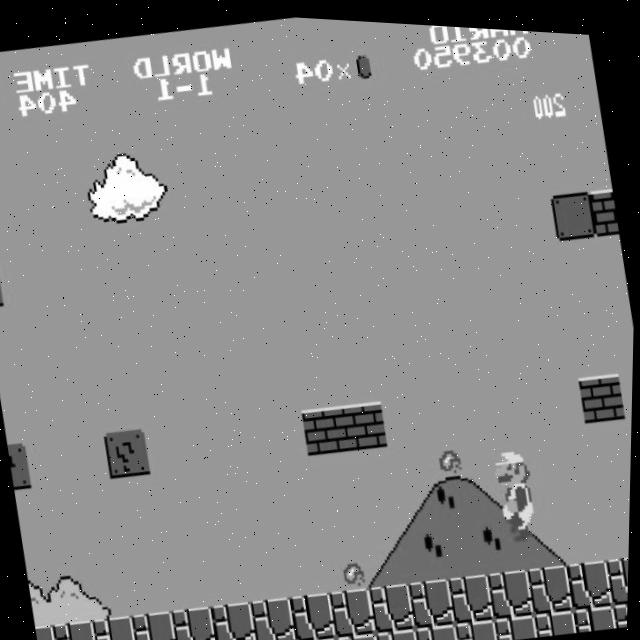1- brick_block: (578, 363, 627, 417), (302, 399, 351, 453), (342, 394, 390, 448), (591, 180, 620, 229)
13- mystery_block: (104, 425, 153, 479), (8, 440, 35, 489), (0, 259, 5, 307)
17- undestructible_block: (449, 565, 498, 620), (567, 550, 616, 604), (528, 555, 577, 609), (489, 560, 538, 614), (409, 571, 458, 625), (370, 576, 419, 630), (330, 581, 379, 635), (291, 586, 340, 640), (251, 591, 300, 640), (212, 596, 261, 640), (172, 601, 221, 640), (133, 606, 182, 640), (575, 595, 620, 627), (535, 600, 580, 632), (496, 605, 540, 637), (94, 611, 142, 640), (457, 610, 501, 640), (607, 545, 631, 598), (54, 616, 102, 640), (417, 615, 462, 640), (377, 621, 422, 640), (338, 625, 382, 640), (37, 622, 63, 640), (615, 589, 630, 620), (298, 630, 342, 640), (259, 636, 303, 640)
3- empty_block: (550, 182, 599, 235)
4- fire_mario: (489, 435, 549, 538)
5- fireball: (344, 553, 369, 583), (440, 440, 464, 470)
